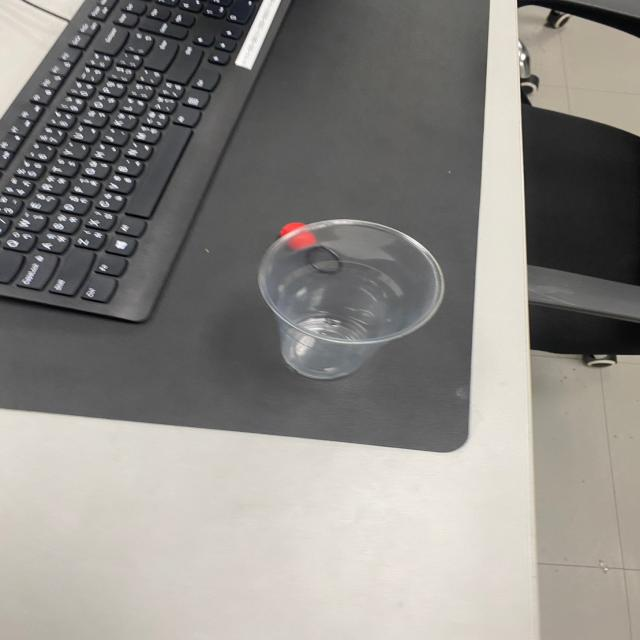glass: (253, 217, 448, 383)
